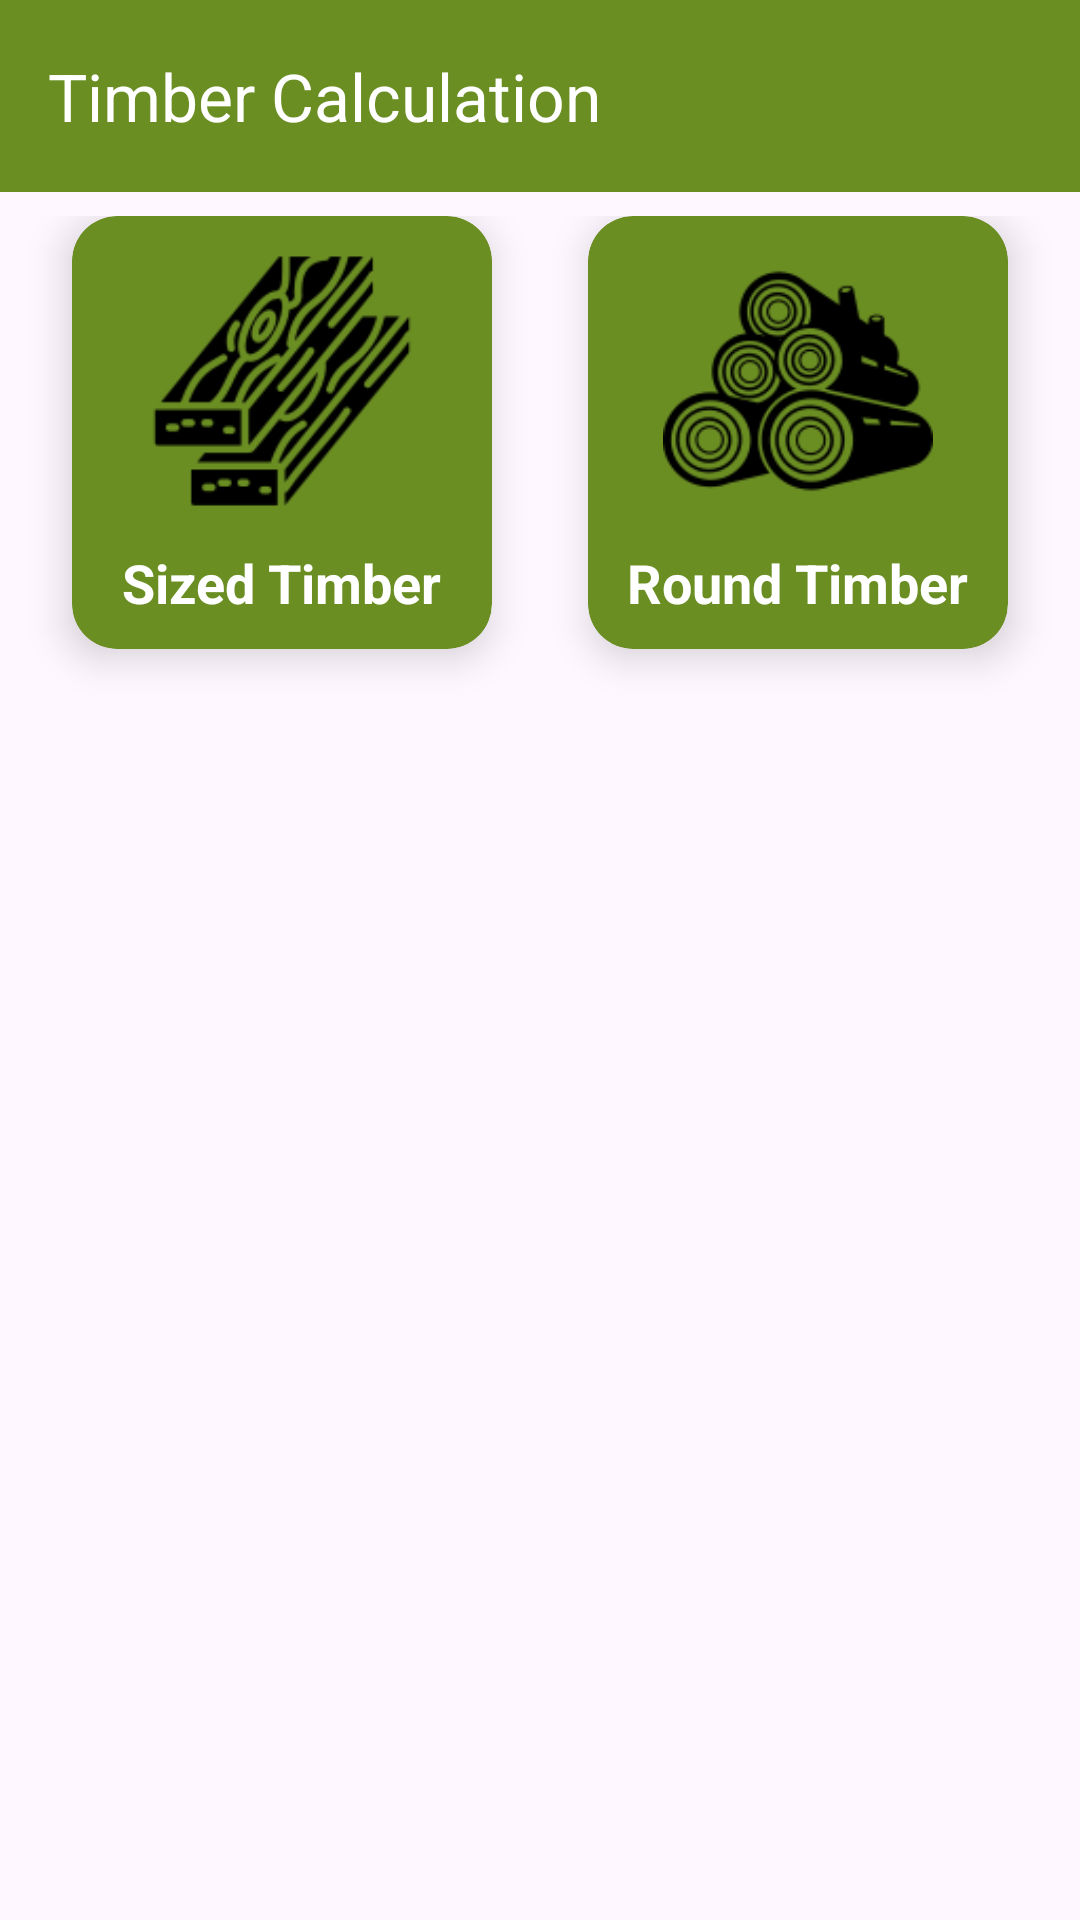

Icon click points for this 1080x1920 phone screenshot, format [x,y]:
hardwood: [282,381]
